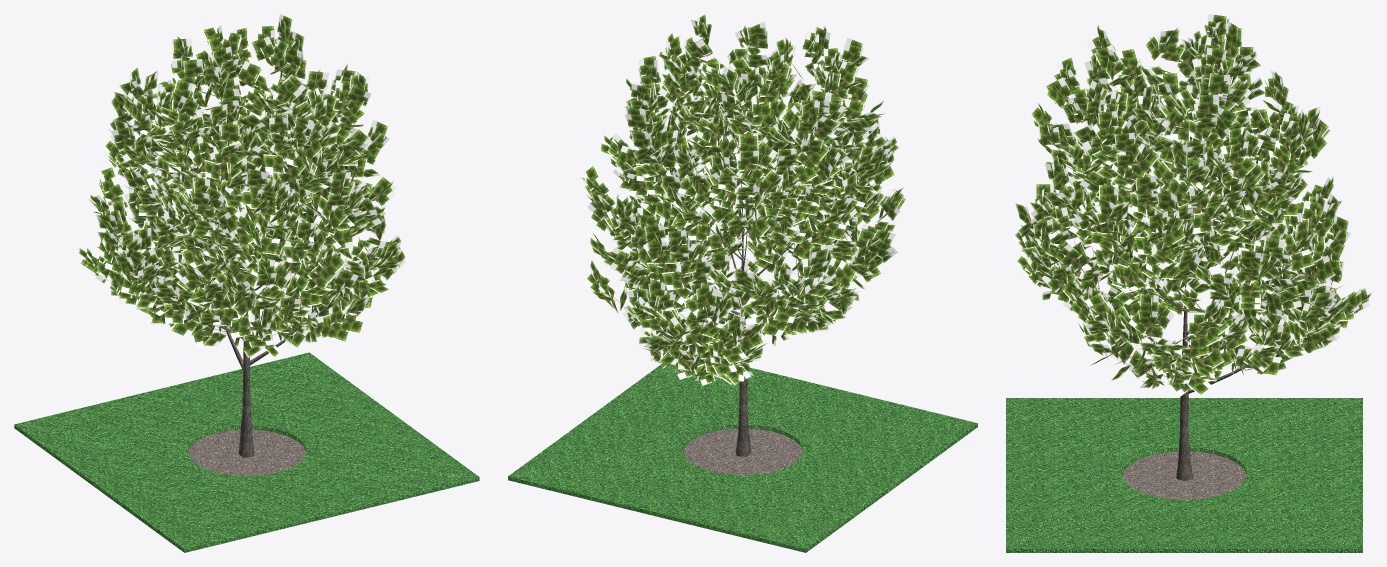
3 renders of one model, left to right at view 1: azimuth 30°, elevation 25°; view 2: azimuth 150°, elevation 25°; view 3: azimuth 270°, elevation 25°, orthographic. The views are drawn at different scales.
Visible parts, largest first — view 1: Material2 (×3); view 2: Material2 (×3); view 3: Material2 (×3).
Boxes of the visible parts, <box> form: Material2 (×3): <box>14,246,479,552</box>; Material2 (×3): <box>508,230,977,552</box>; Material2 (×3): <box>1006,285,1362,552</box>.
Size of the model in its own units: 242 by 325 by 247.
Materials: 4 (4 with a texture image).
